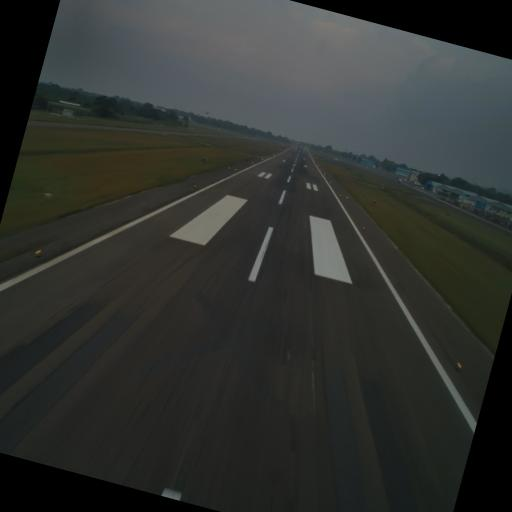on: (452, 357, 465, 374), (34, 244, 44, 257), (360, 225, 366, 231), (192, 182, 197, 188)
